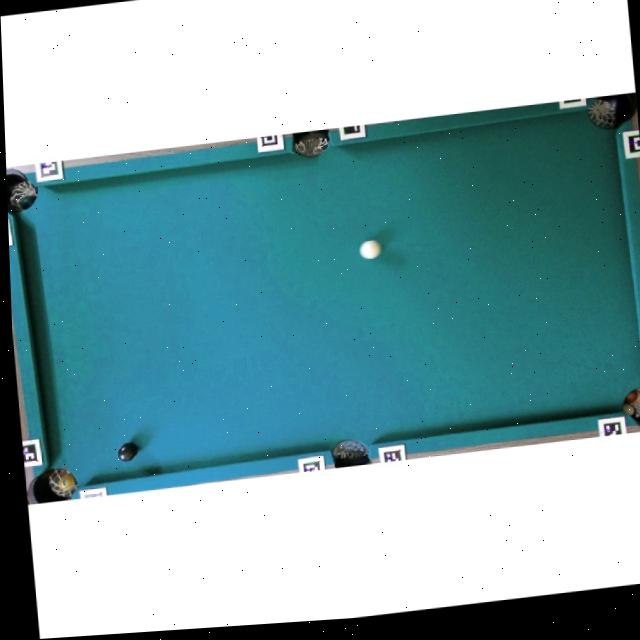cue ball: (358, 238, 383, 261)
other: (117, 440, 139, 463)
